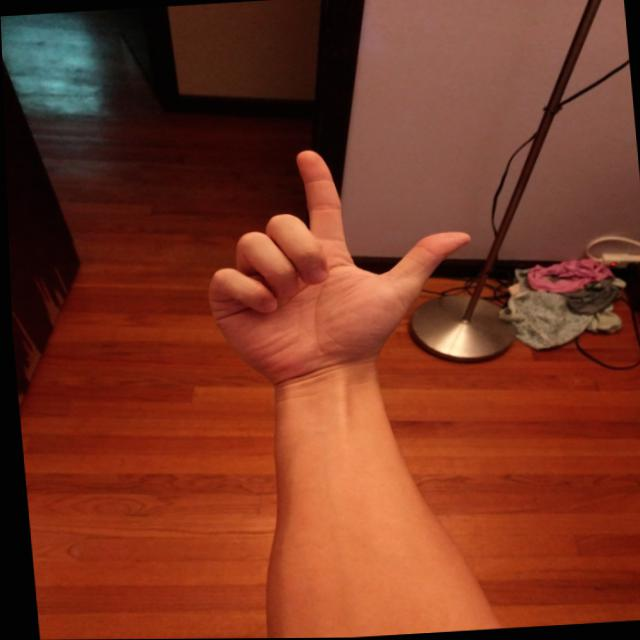L: (188, 136, 490, 398)
